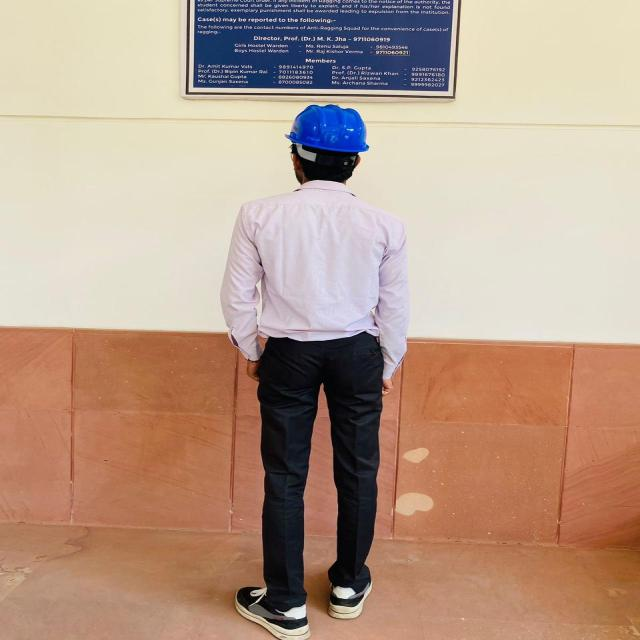no jacket: (221, 104, 412, 637)
